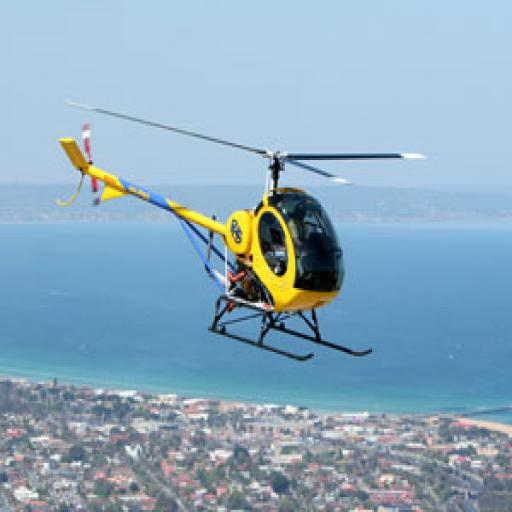helicopter: (54, 99, 429, 366)
